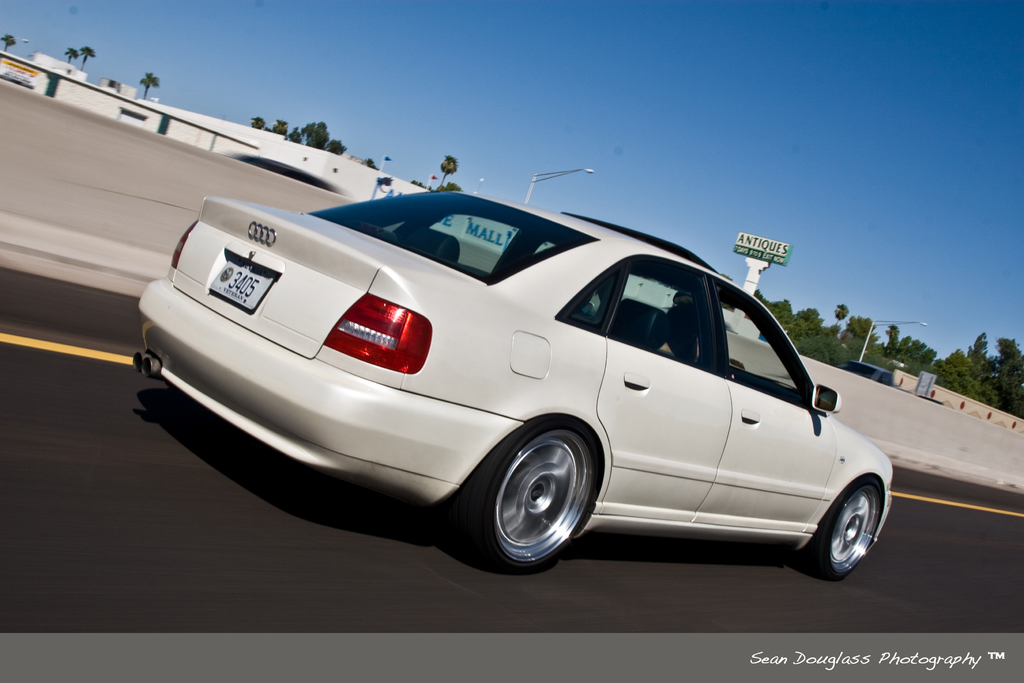Car: (130, 187, 895, 588)
